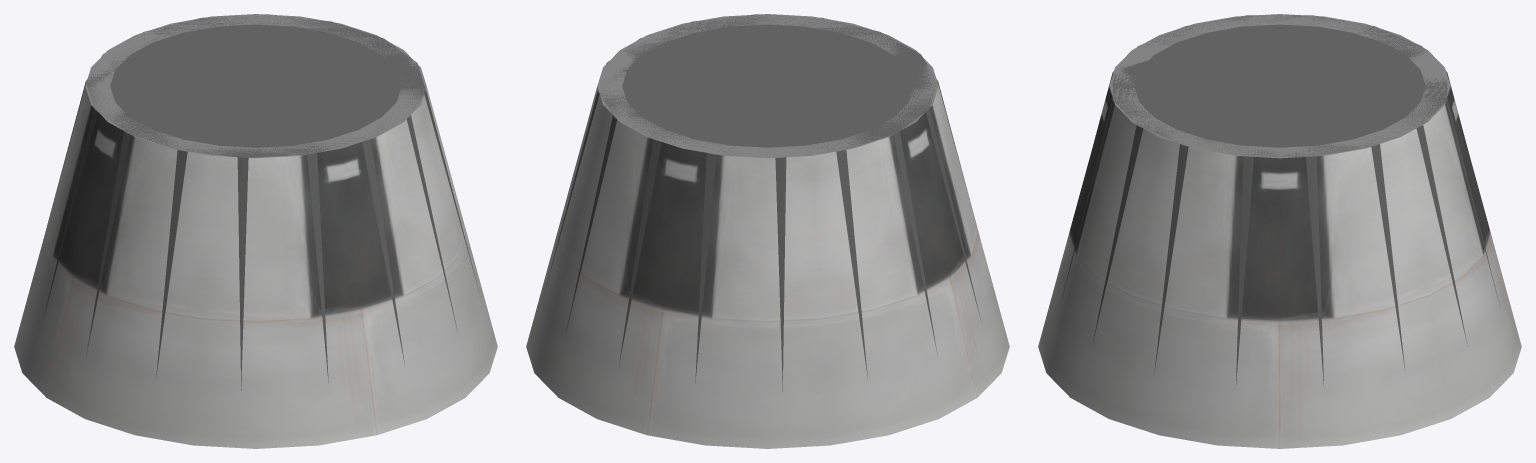
File: Saturn_S4_25mAdapterTank_425m.dae
3 renders of one model, left to right at view 1: azimuth 30°, elevation 25°; view 2: azimuth 150°, elevation 25°; view 3: azimuth 270°, elevation 25°, orthographic.
Visible parts, largest first — view 1: SIV_25mAdapter425m, pCylinder271; view 2: SIV_25mAdapter425m, pCylinder271; view 3: SIV_25mAdapter425m, pCylinder271.
Boxes of the visible parts, x1=… form: SIV_25mAdapter425m: x1=14, y1=14, x2=497, y2=448; pCylinder271: x1=42, y1=14, x2=478, y2=390; SIV_25mAdapter425m: x1=526, y1=14, x2=1009, y2=448; pCylinder271: x1=545, y1=14, x2=981, y2=390; SIV_25mAdapter425m: x1=1038, y1=14, x2=1521, y2=448; pCylinder271: x1=1061, y1=15, x2=1498, y2=389.
Bounding box in the file's own units: 3.54 × 2.11 × 3.54.
